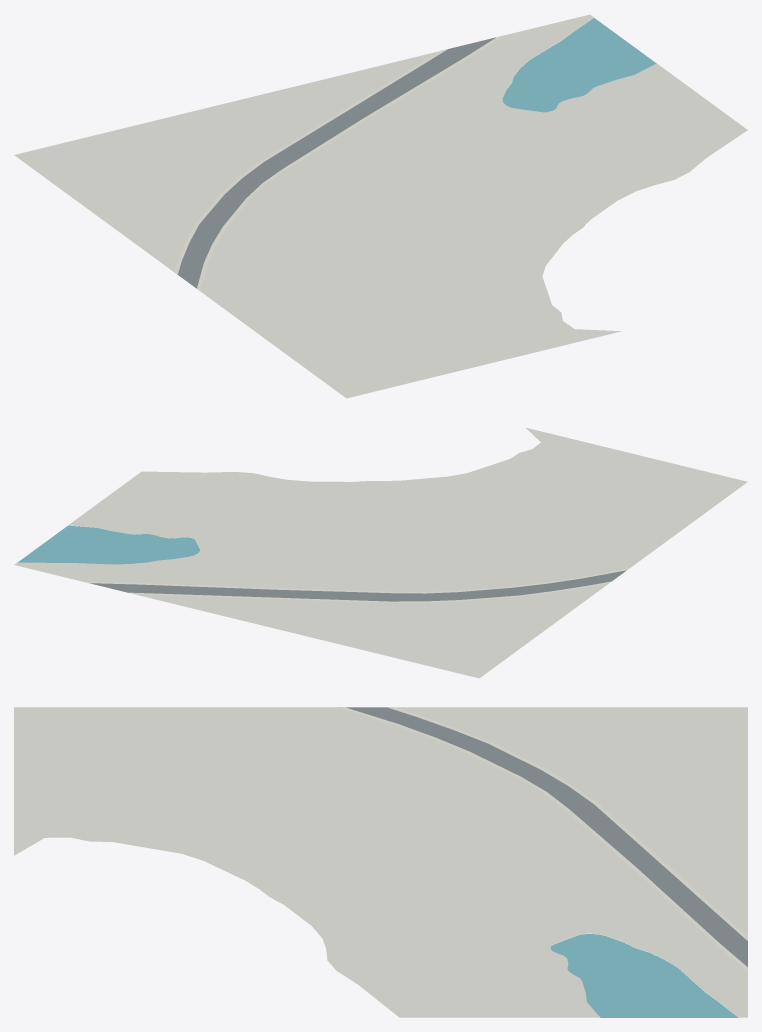
3 views of the same model, one above another, from view 1: azimuth 30°, elevation 25°; view 2: azimuth 150°, elevation 25°; view 3: azimuth 270°, elevation 25° (orthographic). The views are drawn at different scales.
Parts seen in each view (by area): view 1: city; view 2: city; view 3: city.
Part boxes in pixels (<box>): city: <box>14,14,747,398</box>; city: <box>14,427,747,678</box>; city: <box>14,707,747,1017</box>.
Bounding box in the file's own units: 500 × 0.4 × 500.
